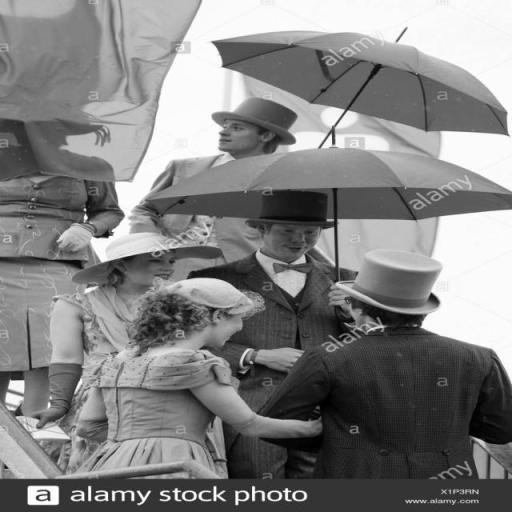guarda_chuva: (196, 16, 512, 140), (129, 153, 512, 231)
